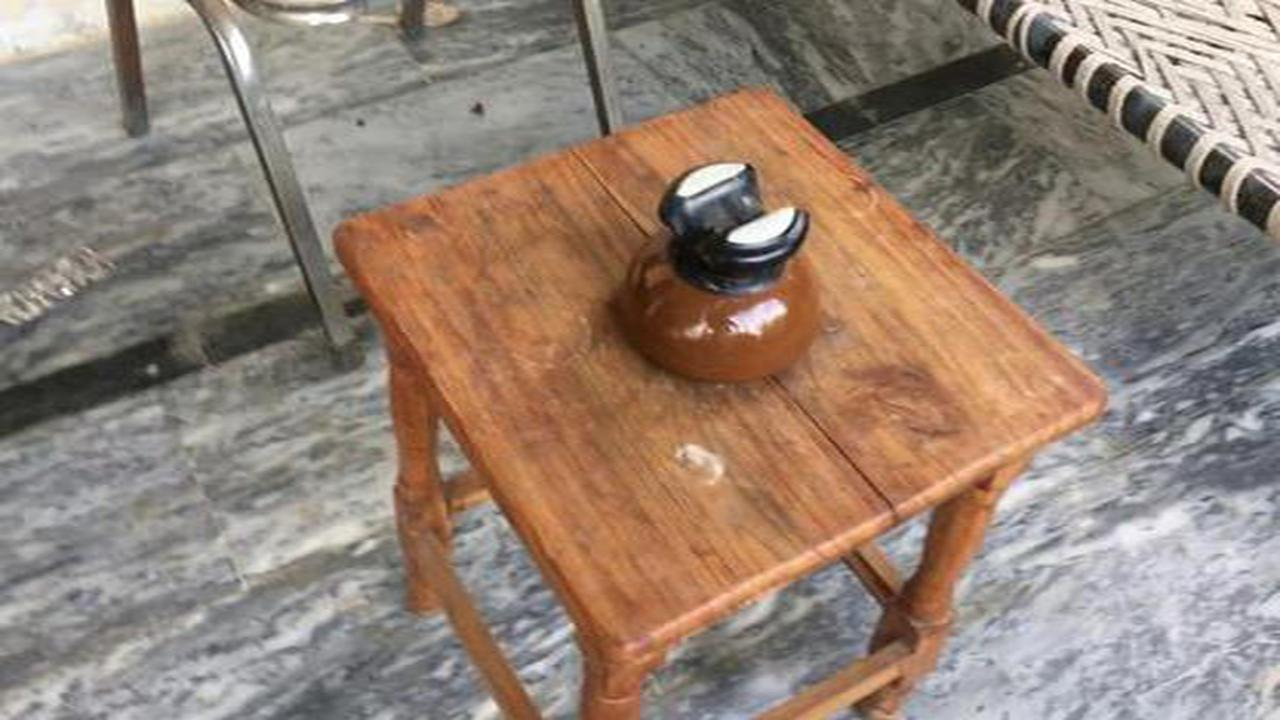insulator_pin: (588, 151, 841, 399)
